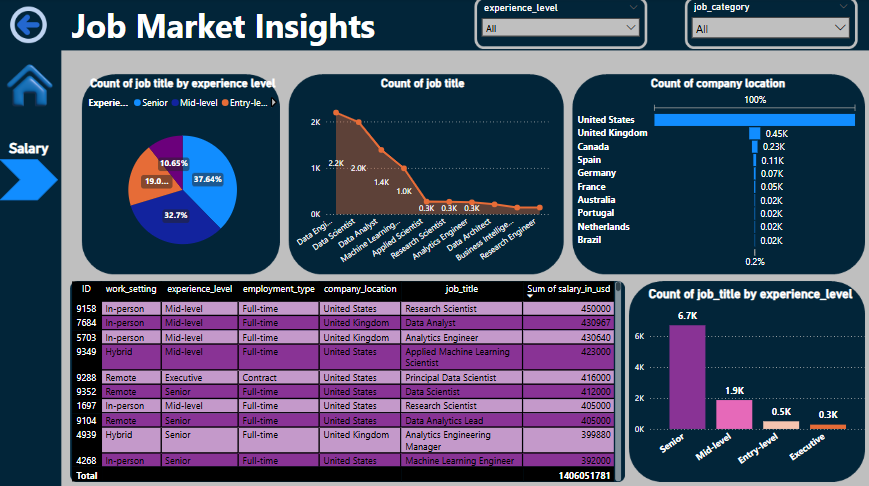

The page's visual inventory and layout, read from the dashboard file:
{"tool":"powerbi","page":{"name":"Job Market Insights","canvas":[1280,720],"ordinal":2},"visuals":[{"type":"stackedAreaChart","title":"Count of job title","fields":{"Category":["jobs_in_data.job_title"],"Y":["CountNonNull(jobs_in_data.job_title)"]},"box":[431.7,114.2,381.3,287.2],"z":0},{"type":"funnel","title":"Count of company location ","fields":{"Category":["jobs_in_data.company_location"],"Y":["CountNonNull(jobs_in_data.company_location)"]},"box":[844.9,114.2,423.3,287.2],"z":1000},{"type":"columnChart","fields":{"Category":["jobs_in_data.experience_level"],"Y":["CountNonNull(jobs_in_data.job_title)"]},"box":[928.9,423.3,351.1,282.2],"z":2000},{"type":"pieChart","title":"Count of job title by experience level","fields":{"Category":["jobs_in_data.experience_level"],"Y":["Count(jobs_in_data.job_title)"]},"box":[126,114.2,287.2,287.2],"z":3000},{"type":"tableEx","fields":{"Values":["jobs_in_data.ID","jobs_in_data.work_setting","jobs_in_data.experience_level","jobs_in_data.employment_type","jobs_in_data.company_location","jobs_in_data.job_title","Sum(jobs_in_data.salary_in_usd)"]},"box":[100.8,411.5,818.1,304],"z":4000},{"type":"shape","title":"Salary","box":[0,208.3,87.3,89],"z":5000},{"type":"image","box":[3.4,79,84,97.4],"z":6000},{"type":"textbox","box":[100.8,1.7,475.4,77.3],"z":7000},{"type":"image","box":[0,0,87.3,79],"z":8000},{"type":"slicer","fields":{"Values":["jobs_in_data.job_category"]},"box":[1007.9,0,252,77.3],"z":9000},{"type":"slicer","fields":{"Values":["jobs_in_data.experience_level"]},"box":[698.8,1.7,252,65.5],"z":10000}]}

Visuals, with their boxes on the page's 1280x720 design canvas (x1, y1, x2, y2). These are canvas units, not pixel positions in the 869x486 screenshot, which may show the page scaled, cropped or inside an application window:
"Count of job title" stackedAreaChart: [x1=432, y1=114, x2=813, y2=401]
"Count of company location " funnel: [x1=845, y1=114, x2=1268, y2=401]
columnChart - jobs_in_data.experience_level x CountNonNull(jobs_in_data.job_title): [x1=929, y1=423, x2=1280, y2=706]
"Count of job title by experience level" pieChart: [x1=126, y1=114, x2=413, y2=401]
tableEx - jobs_in_data.ID x jobs_in_data.work_setting: [x1=101, y1=412, x2=919, y2=716]
"Salary" shape: [x1=0, y1=208, x2=87, y2=297]
image: [x1=3, y1=79, x2=87, y2=176]
textbox: [x1=101, y1=2, x2=576, y2=79]
image: [x1=0, y1=0, x2=87, y2=79]
slicer - jobs_in_data.job_category: [x1=1008, y1=0, x2=1260, y2=77]
slicer - jobs_in_data.experience_level: [x1=699, y1=2, x2=951, y2=67]
